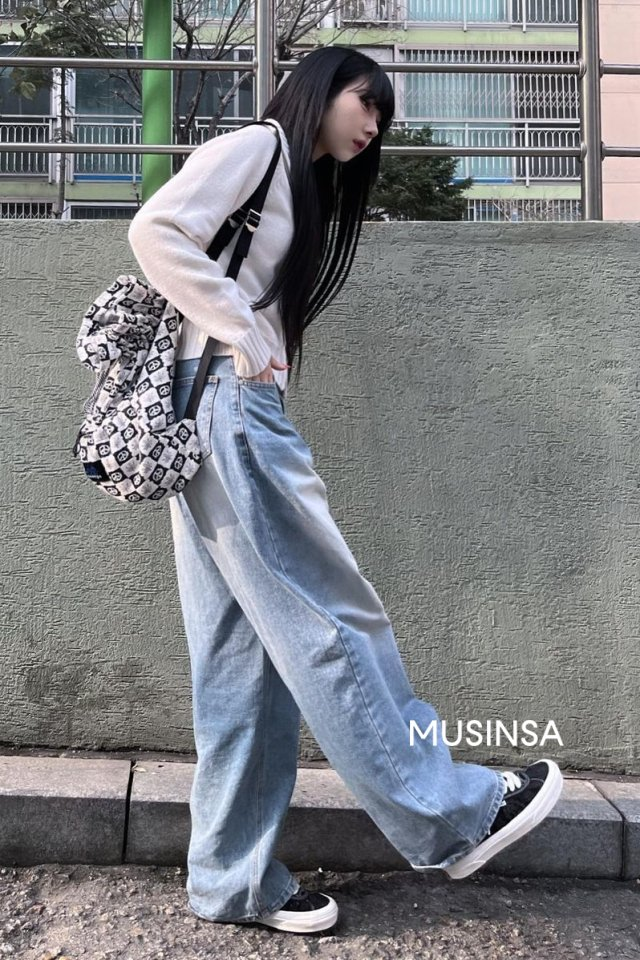Bag: (64, 271, 218, 511)
Jeans: (161, 357, 489, 868)
Shoes: (251, 758, 569, 934)
Top: (125, 123, 324, 389)
